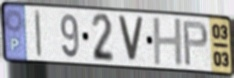2: (90, 11, 116, 64)
9: (59, 13, 80, 59)
H: (151, 17, 185, 68)
I: (33, 9, 43, 60)
P: (181, 20, 210, 68)
V: (116, 14, 146, 65)
